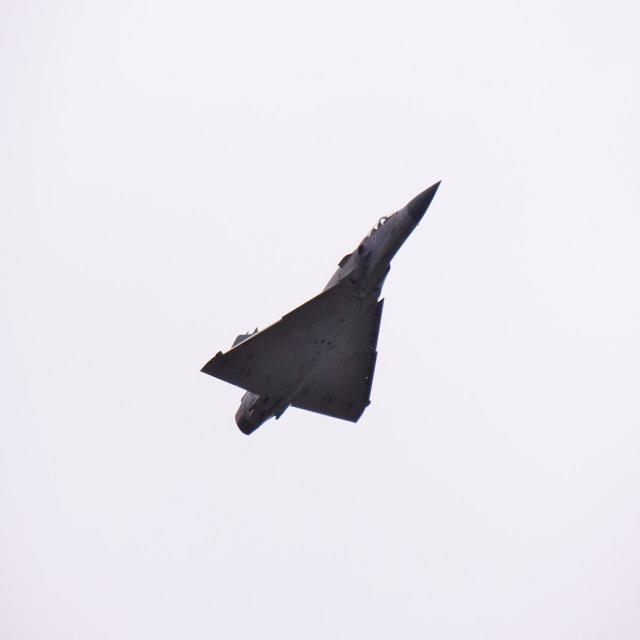MIL_Plane: (199, 180, 441, 435)
